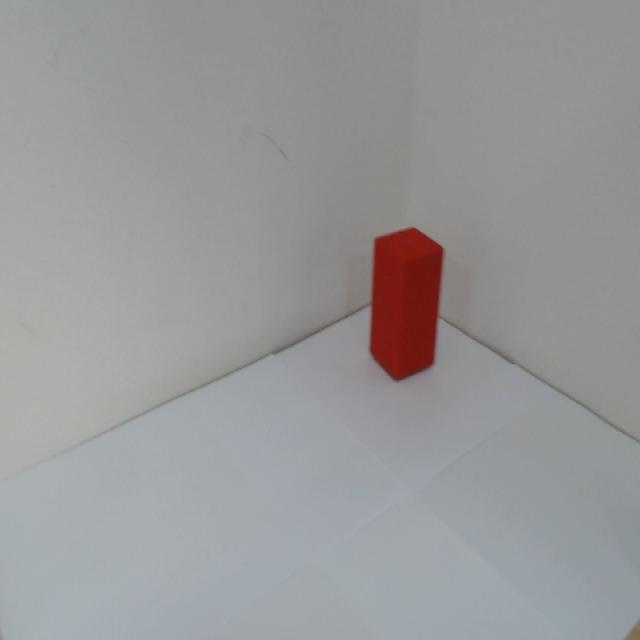cube: (361, 219, 447, 388)
